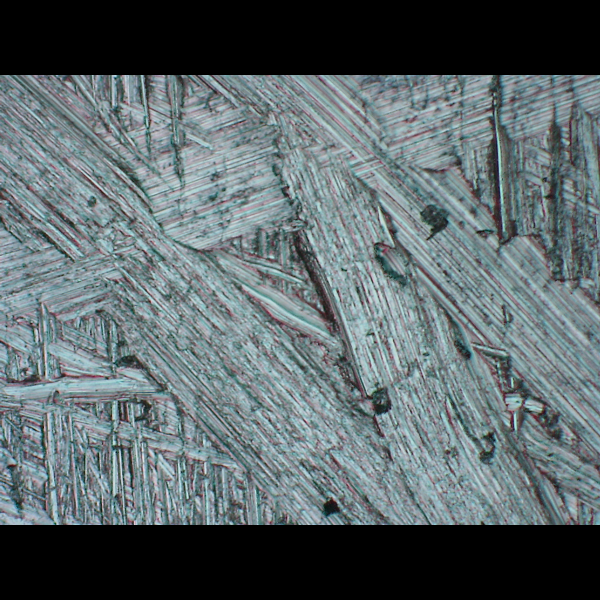d: (0, 75, 599, 524)
